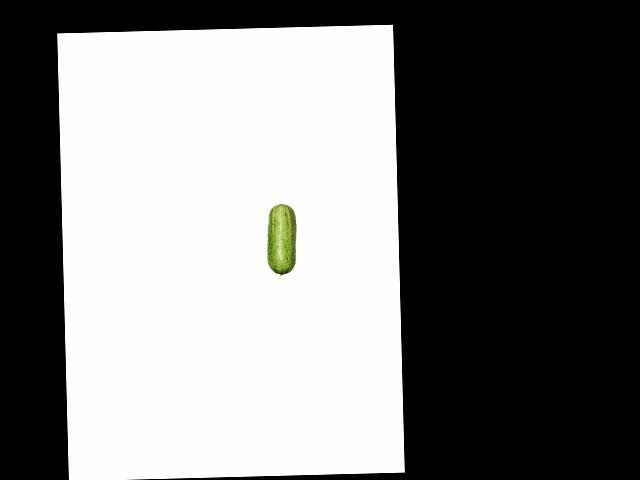cucumber: (266, 203, 297, 275)
